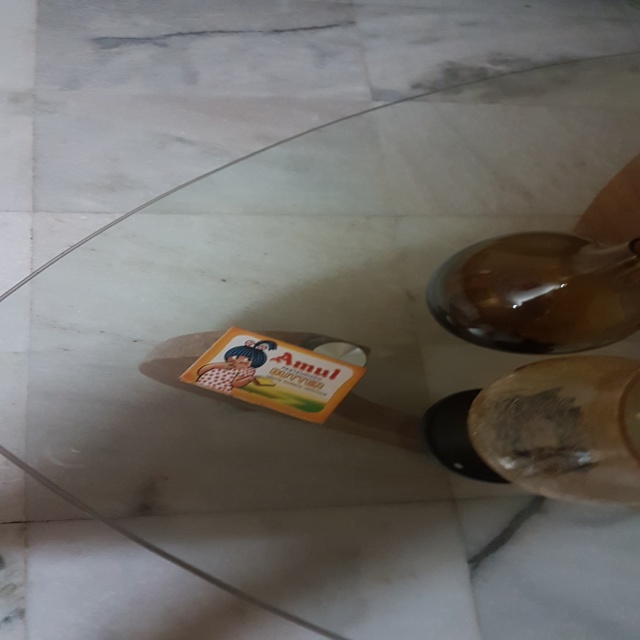butter: (180, 327, 366, 427)
